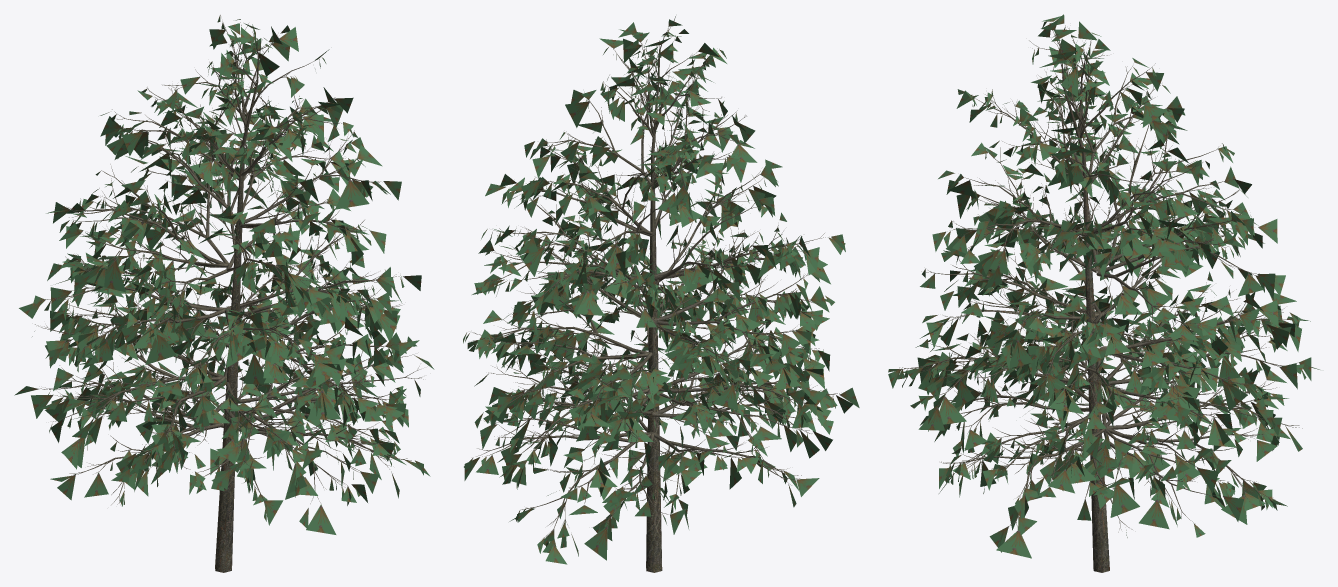
The model's file is snow_treeA.glb.
The picture shows the model from 3 angles, left to right: view 1: azimuth 30°, elevation 25°; view 2: azimuth 150°, elevation 25°; view 3: azimuth 270°, elevation 25°; orthographic projection. The views are drawn at different scales.
Visible parts, largest first — view 1: bq_Tree_Larix-decidua_A_winter; view 2: bq_Tree_Larix-decidua_A_winter; view 3: bq_Tree_Larix-decidua_A_winter.
Boxes of the visible parts, x1,y1,x2,y2 form: bq_Tree_Larix-decidua_A_winter: (14, 15, 434, 572); bq_Tree_Larix-decidua_A_winter: (463, 16, 859, 572); bq_Tree_Larix-decidua_A_winter: (888, 14, 1319, 572).
Bounding box in the file's own units: 3.49 × 5.04 × 3.6.
2 materials, 2 textured.
